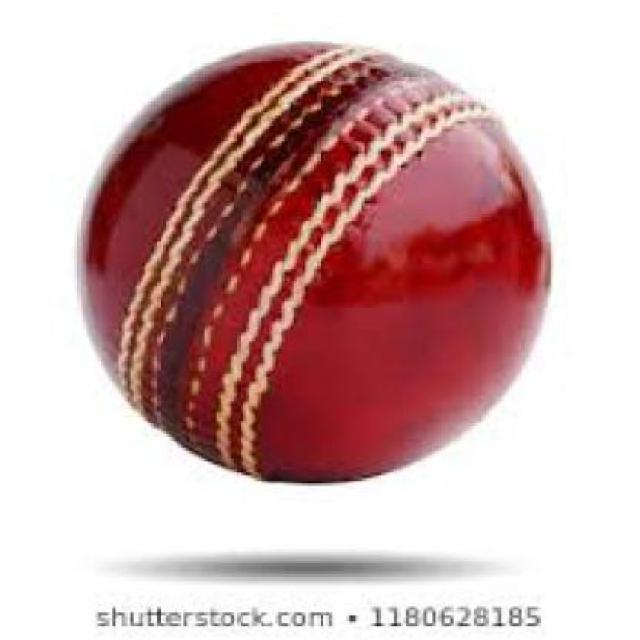ball: (43, 15, 579, 518)
